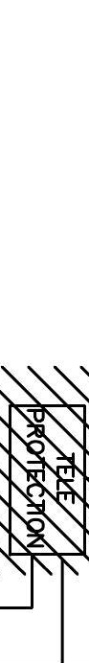tele_protection: (5, 401, 88, 558)
